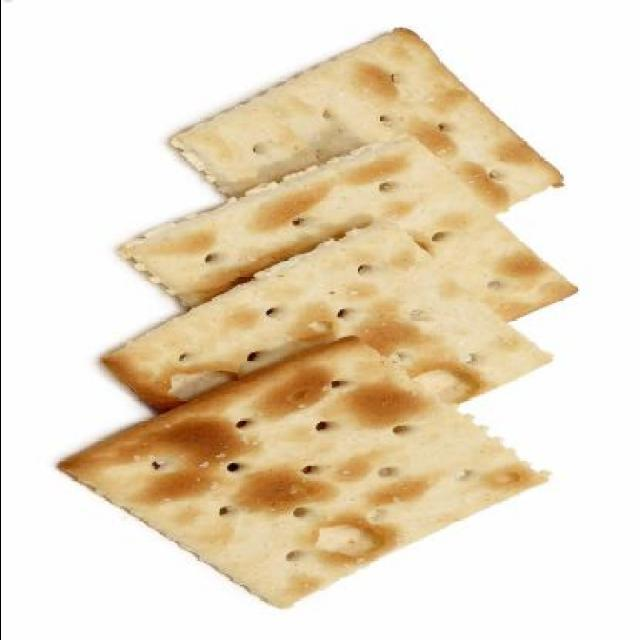Cracker packaged: (42, 335, 540, 613), (91, 220, 554, 454), (122, 147, 580, 356), (163, 37, 566, 257)
